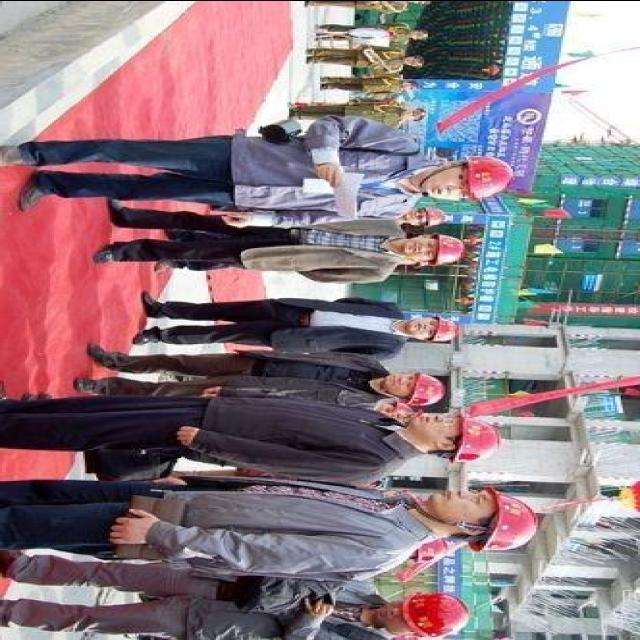helmet: (474, 484, 548, 565), (395, 586, 476, 640), (446, 403, 506, 468), (458, 148, 516, 206), (402, 370, 446, 408), (428, 230, 466, 270), (422, 315, 464, 345), (420, 204, 450, 227)
